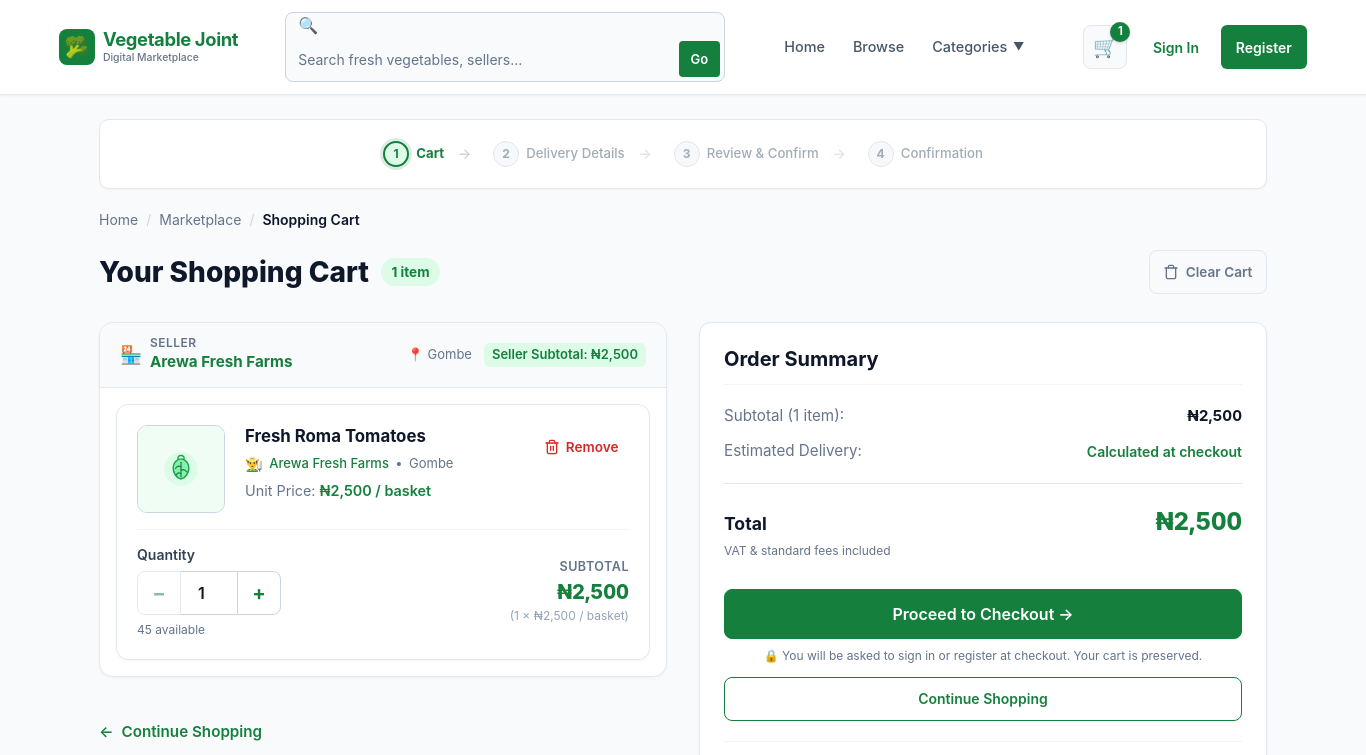
Scenario: FE-114 E2E: Buyer Purchase Journey (TC-08 to TC-16) › TC-09: Increase quantity in cart (CART-02, CART-04) › increases quantity and subtotal when clicking increase button
Expected: the link "Fresh Roma Tomatoes" is shown, [245,426,426,446]
Expected: the element with test id "cart-item-subtotal-1" shows "₦2,500", [557,580,629,604]
What coordinates should you click on to do the following:
click the button named "increase quantity"
I would click on:
 (259, 593)
Its box is [237,571,281,615].
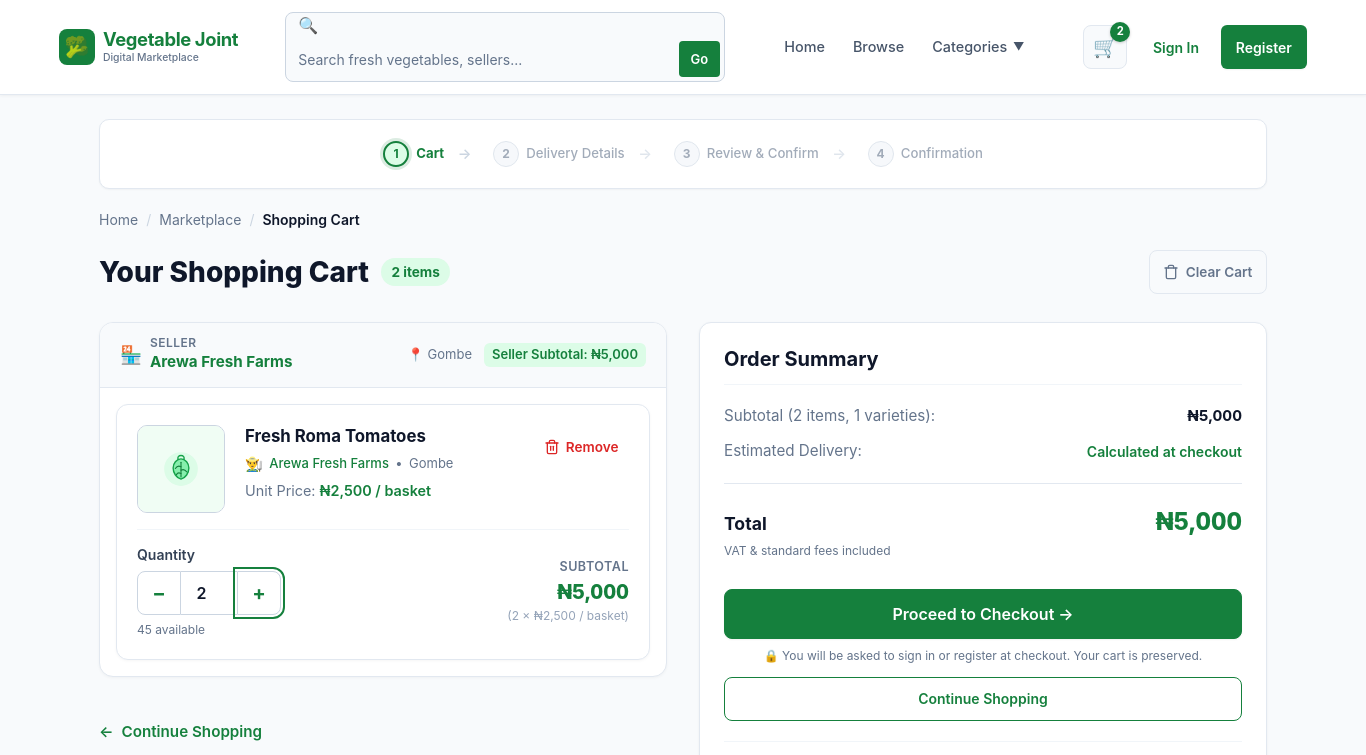
Expected: the element with test id "cart-item-subtotal-1" shows "₦5,000", [557,580,629,604]
Expected: the text with test id "cart-grand-total" reads "₦5,000", [1156,507,1242,536]
Expected: the text with test id "navbar-cart-badge" reads "2", [1117,24,1124,38]
